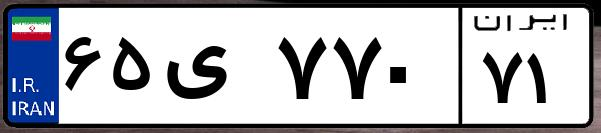0: (385, 28, 445, 110)
1: (525, 38, 570, 115)
5: (110, 28, 158, 98)
6: (57, 26, 110, 100)
7: (270, 28, 330, 110), (330, 28, 385, 110), (475, 38, 525, 113)
ی: (158, 20, 270, 120)
